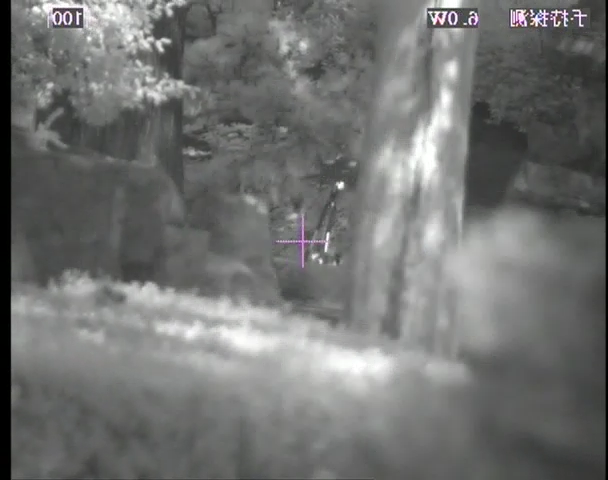my: (335, 181, 345, 191)
